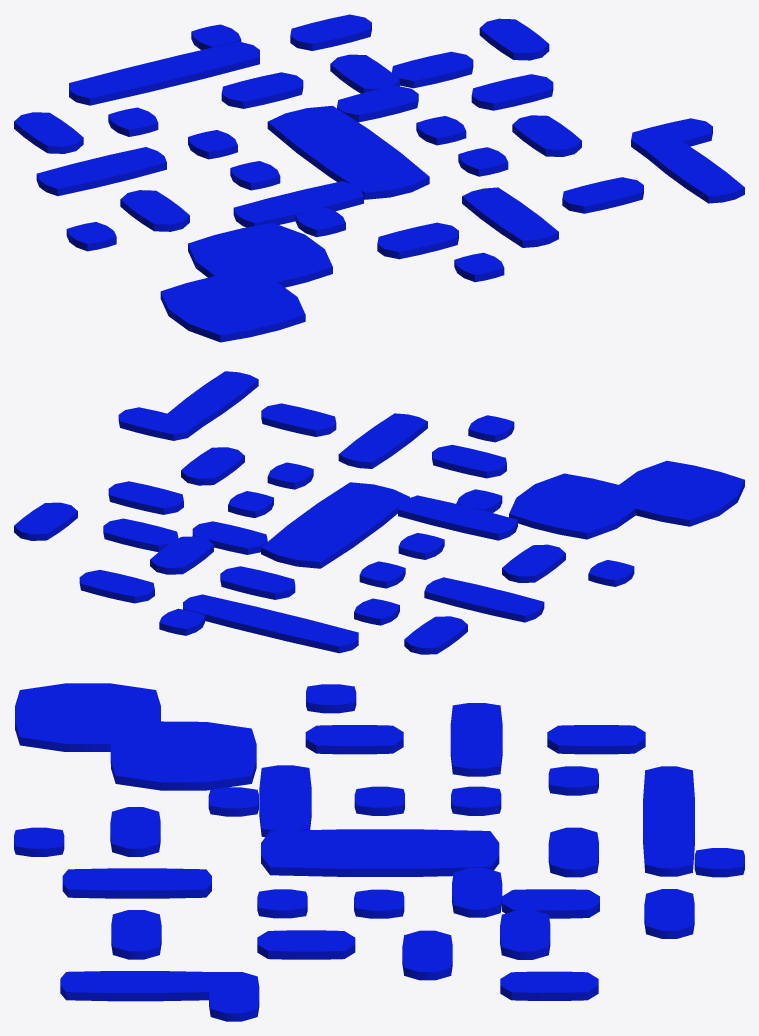
The model's file is st_level_02_test.FBX.
3 views of the same model, one above another, from view 1: azimuth 30°, elevation 25°; view 2: azimuth 150°, elevation 25°; view 3: azimuth 270°, elevation 25° (orthographic). The views are drawn at different scales.
Parts seen in each view (by area): view 1: st_modules_067; view 2: st_modules_067; view 3: st_modules_067.
Boxes of the visible parts, left/top/right/bottom form: st_modules_067: left=14, top=14, right=744, bottom=342; st_modules_067: left=14, top=371, right=744, bottom=654; st_modules_067: left=14, top=683, right=744, bottom=1021.
Size of the model in its own units: 2571 by 30 by 2407.
